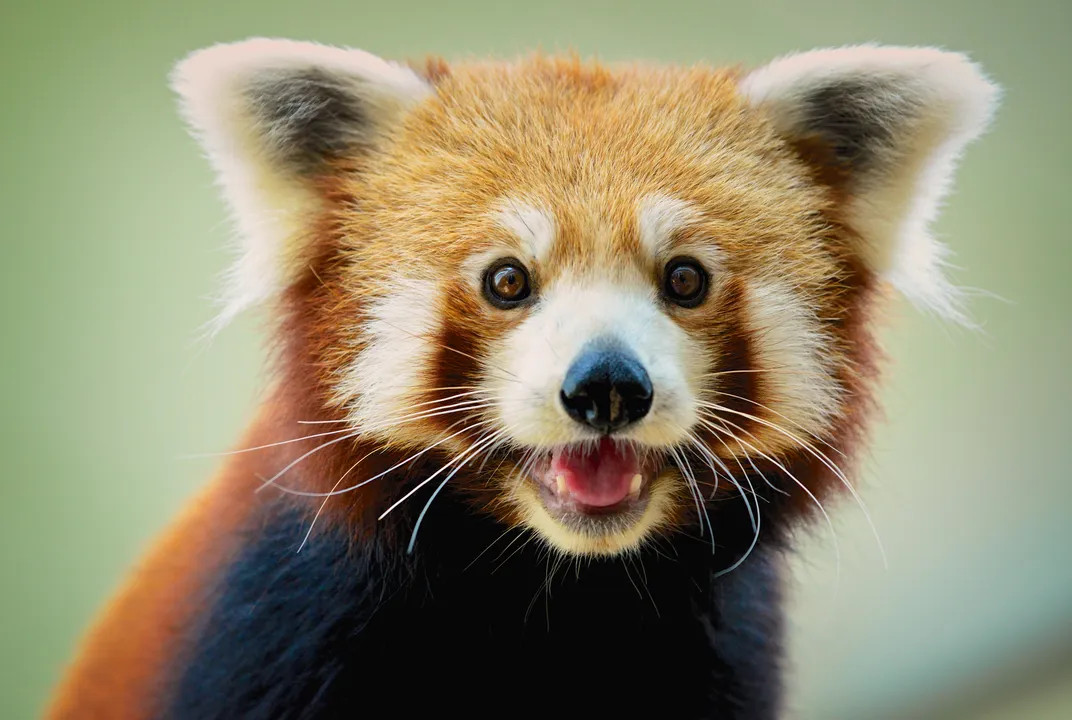Red panda: (162, 30, 1009, 570)
